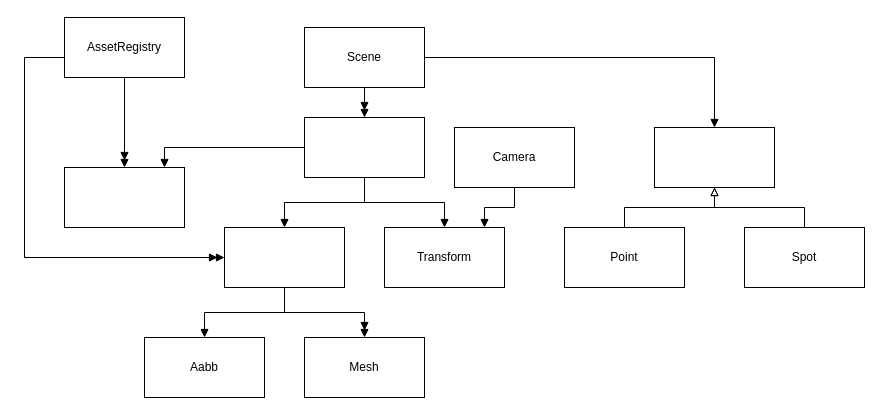
This 882x415 diagram has some shape labels left out. Here are the shapes that lost their labels. From the top down, the centre of each, then its label:
At point 364,147: "Object".
At point 714,157: "Light".
At point 124,197: "Material".
At point 284,257: "Model".
